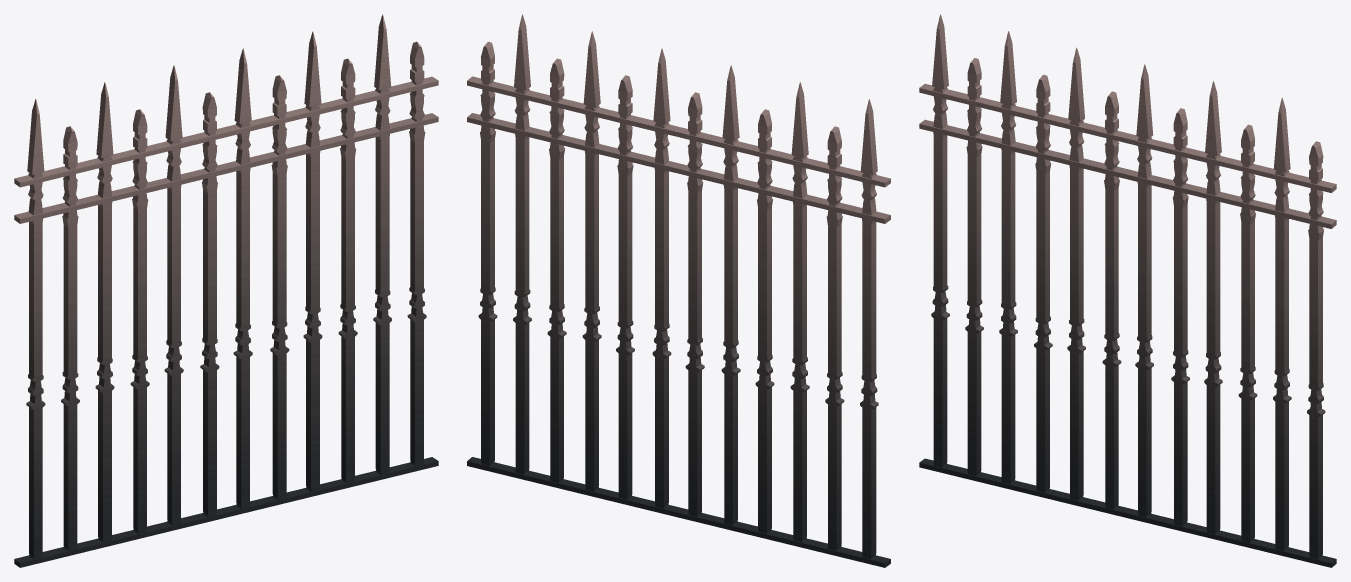
The model's file is PlainGate.fbx.
3 renders of one model, left to right at view 1: azimuth 30°, elevation 25°; view 2: azimuth 150°, elevation 25°; view 3: azimuth 330°, elevation 25°, orthographic.
Parts seen in each view (by area): view 1: pCube19; view 2: pCube19; view 3: pCube19.
Part boxes in pixels (x1,y1,x2,y2): pCube19: (14, 14, 438, 567); pCube19: (467, 14, 890, 567); pCube19: (919, 14, 1336, 567).
Size of the model in its own units: 41.15 by 43.46 by 1.
